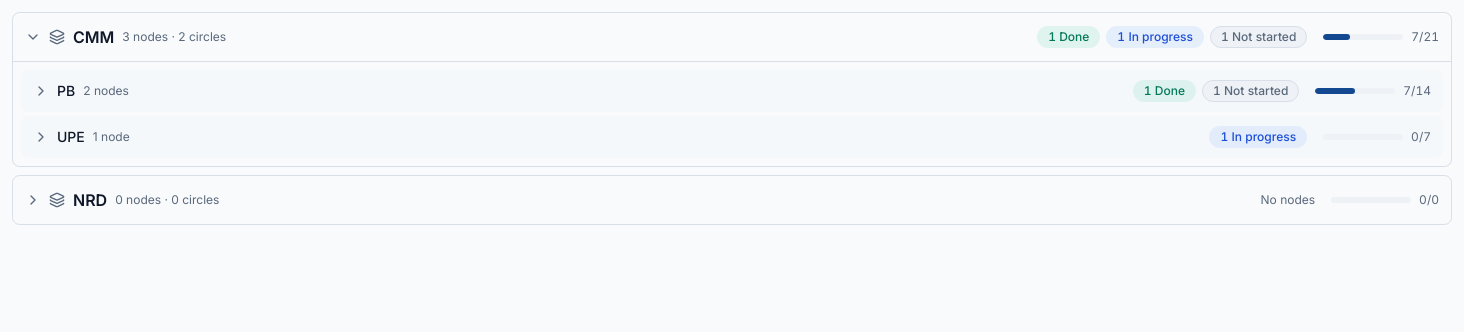
Test: NodeExplorer › loads that circle's nodes, filtered by product and circle
Click the text "PB" at (66, 91), box [57,81,75,101]
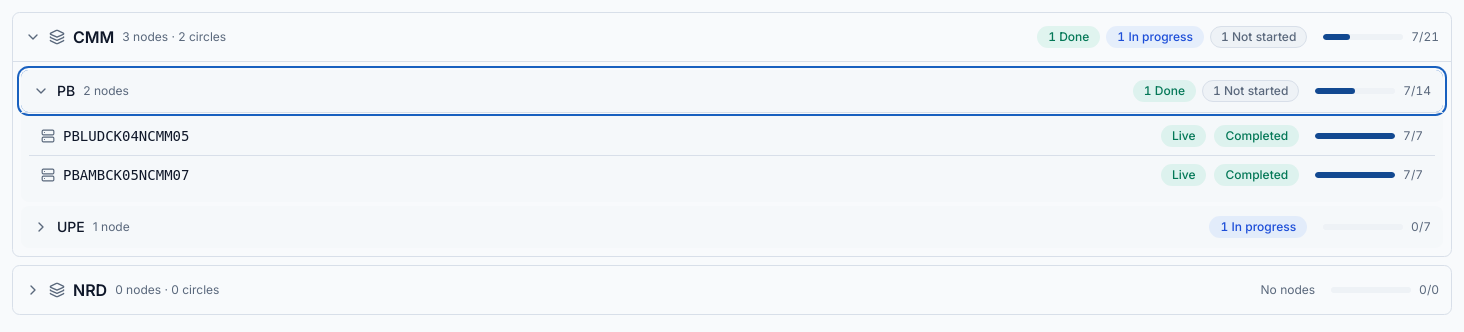
Now the text "PBLUDCK04NCMM05" is shown, box [63,126,189,146]
Now the text "PBAMBCK05NCMM07" is shown, box [63,165,189,185]
